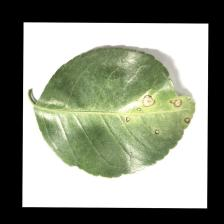canker: (117, 59, 200, 151)
